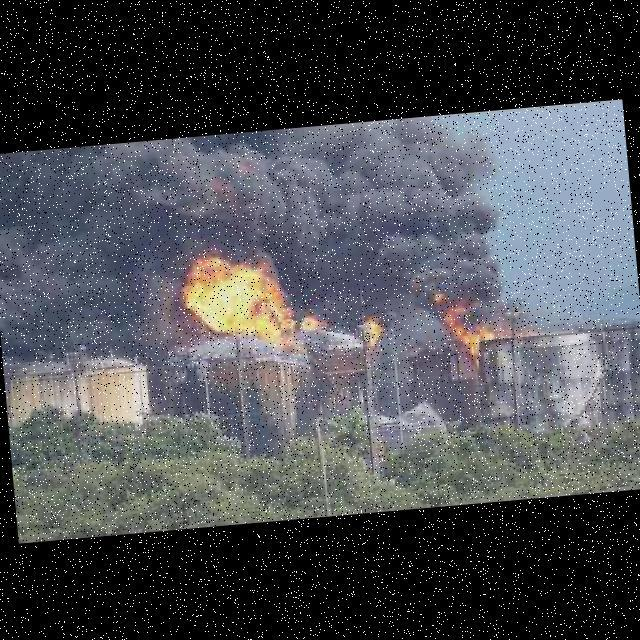Fire: (174, 240, 326, 352), (434, 285, 507, 368), (358, 313, 385, 345), (518, 326, 533, 339)
Smoke: (33, 105, 522, 346)
